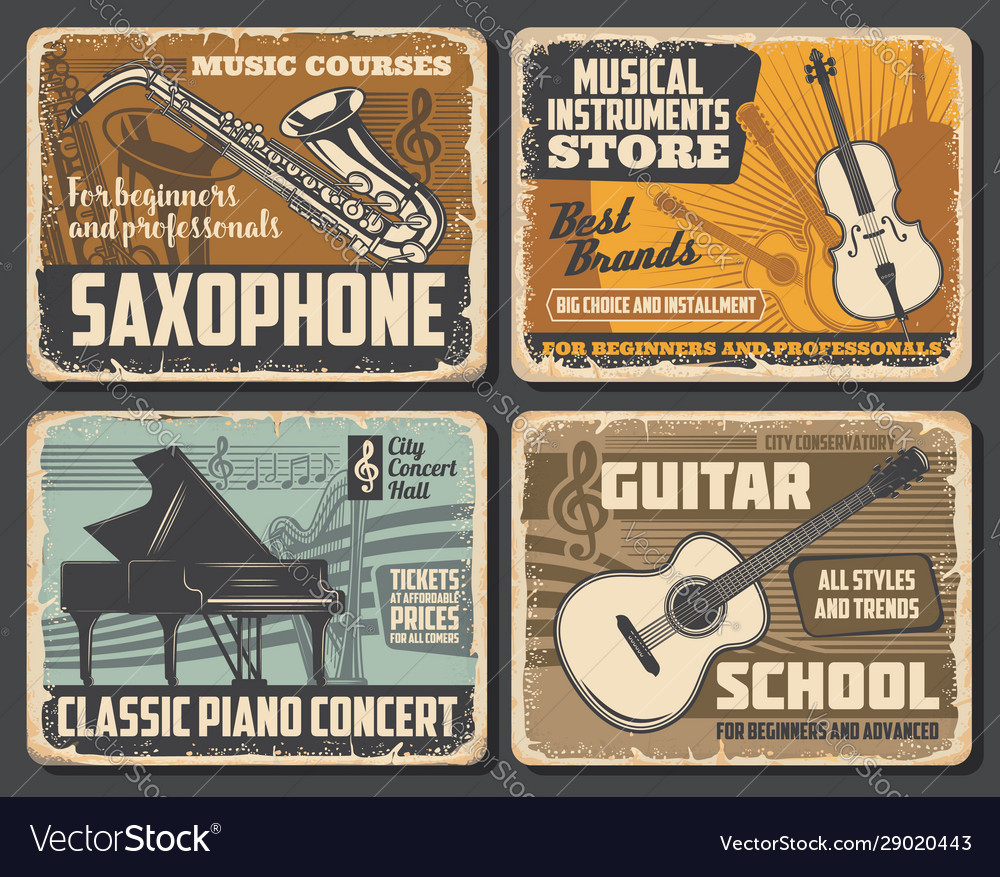Piano: (19, 428, 459, 722)
Saxophone: (25, 14, 495, 345)
Violin: (764, 40, 971, 382)
